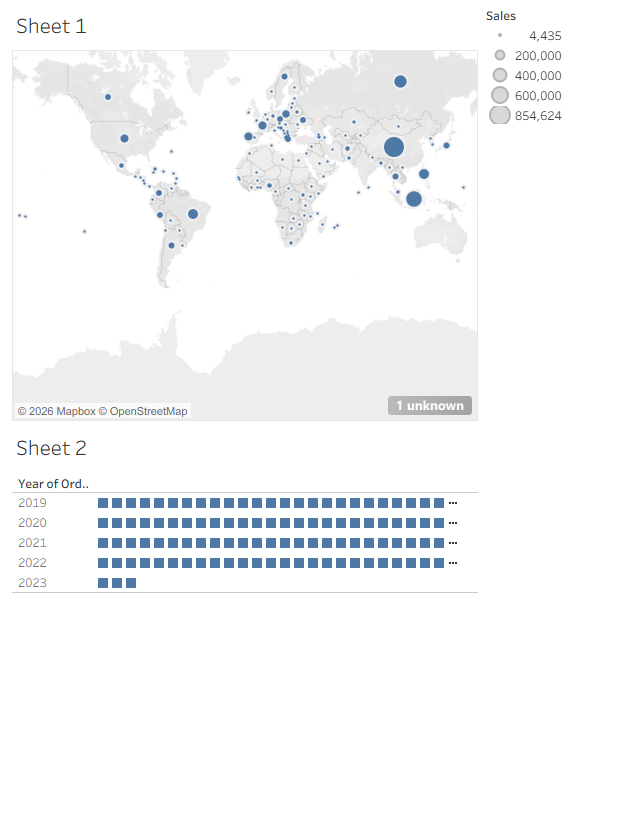

What the dashboard file says about the page in this screenshot:
{"tool":"tableau","page":{"name":"Dashboard 1","canvas":[650,860],"ordinal":0},"visuals":[{"type":"worksheet","title":"Sheet 1","mark":"Automatic","box":[8,8,474,422]},{"type":"legend","title":"Sheet 1","param":"[federated.0z2q2p71n7o0mn11z115b0nwtvd8].[sum:Sales:qk]","box":[482,8,160,126]},{"type":"worksheet","title":"Sheet 2","mark":"Automatic","rows":["Order Date"],"box":[8,430,474,422]}]}

Visuals, with their boxes in screenshot pixels (x1, y1, x2, y2), scaled from the page's 650x860 canvas onto the 638x820 screenshot:
"Sheet 1" worksheet: crop(8, 8, 473, 410)
"Sheet 1" legend: crop(473, 8, 630, 128)
"Sheet 2" worksheet: crop(8, 410, 473, 812)
